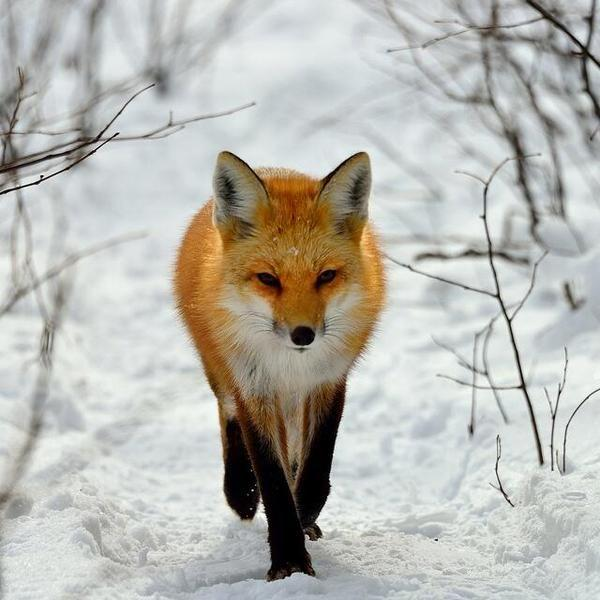fox: (173, 138, 401, 588)
